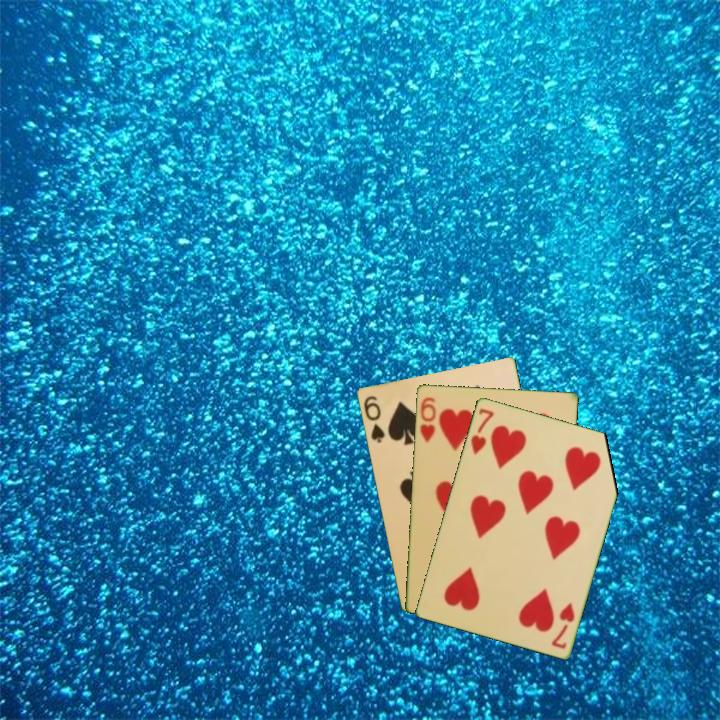6h: (416, 394, 439, 445)
6s: (360, 392, 387, 445)
7h: (467, 404, 496, 457), (548, 598, 577, 651)
